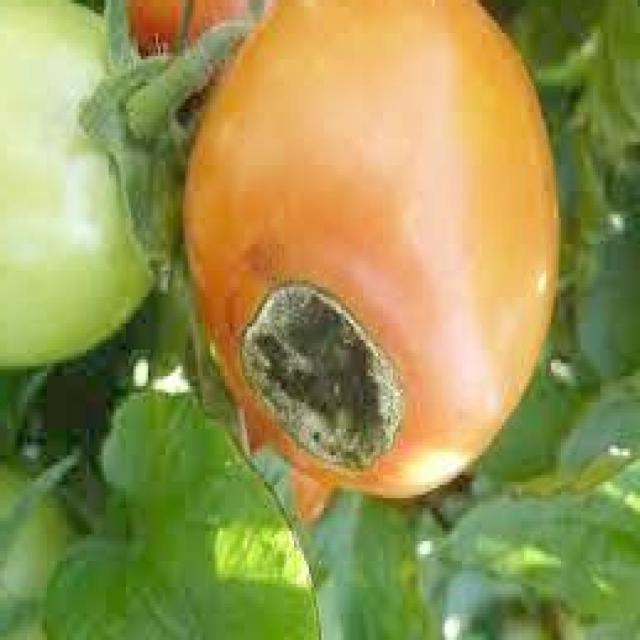Blossom End Rot Fruit: (159, 192, 276, 321)
